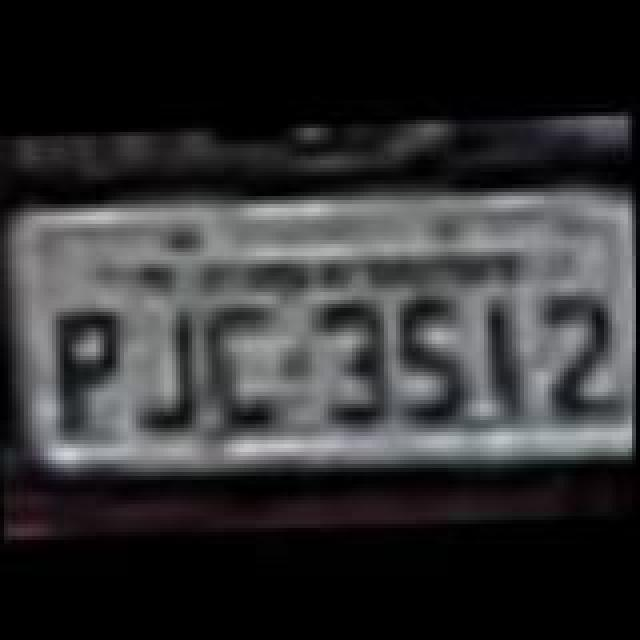1: (472, 286, 528, 422)
2: (538, 282, 630, 418)
3: (308, 292, 388, 428)
5: (388, 288, 468, 424)
C: (200, 298, 288, 430)
J: (130, 296, 206, 432)
P: (44, 306, 124, 442)
